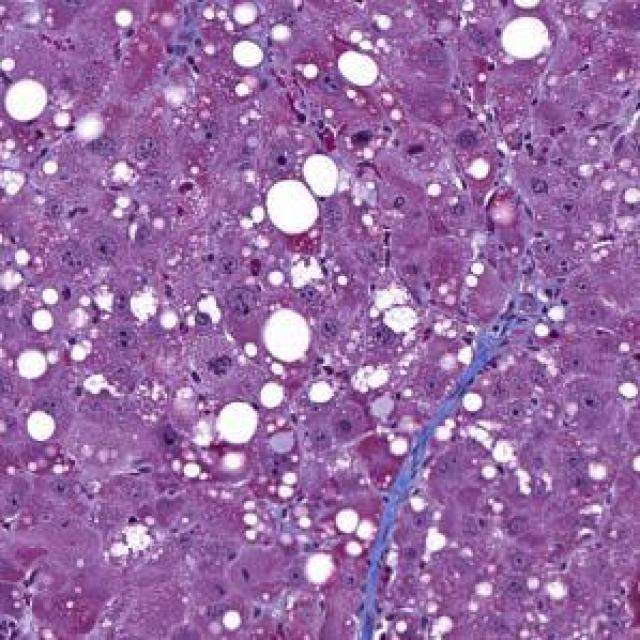fibrosis: (370, 372, 464, 542)
